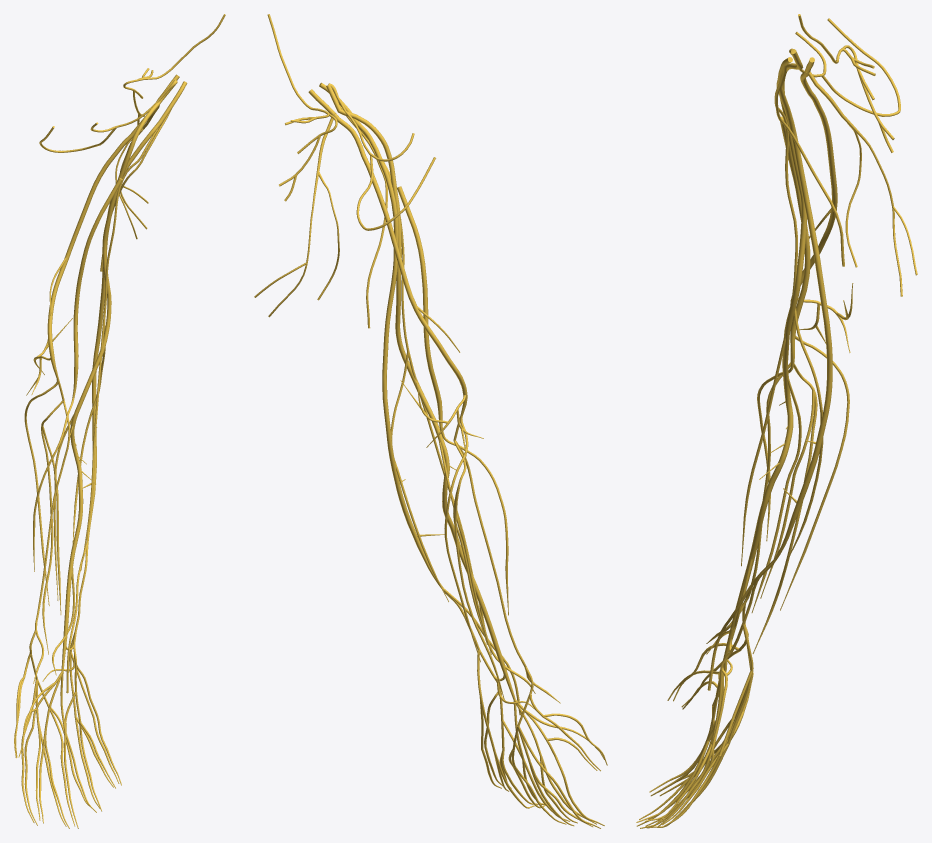
File: nervous_peripheral.upper_limb_right.glb
3 views of the same model, side by side, from view 1: azimuth 30°, elevation 25°; view 2: azimuth 150°, elevation 25°; view 3: azimuth 270°, elevation 25° (orthographic). The views are drawn at different scales.
Visible parts, largest first — view 1: right_median_nerve, right_dorsal_digital_branches_of_radial_nerve, right_proper_palmar_digital_branches_of_median_nerve, right_radial_nerve, right_ulnar_nerve, right_musculocutaneous_nerve, right_superficial_branch_of_radial_nerve, right_proper_palmar_digital_branches_of_ulnar_nerve, right_deep_branch_of_radial_nerve, right_anterior_branch_of_medial_antebrachial_cutaneous_nerve, right_posterior_antebrachial_cutaneous_nerve, right_dorsal_digital_branches_of_ulnar_nerve (+10 smaller); view 2: right_median_nerve, right_ulnar_nerve, right_dorsal_digital_branches_of_radial_nerve, right_radial_nerve, right_musculocutaneous_nerve, right_proper_palmar_digital_branches_of_median_nerve, right_thoracodorsal_nerve, right_superficial_branch_of_radial_nerve, right_suprascapular_nerve, right_deep_branch_of_radial_nerve, right_posterior_antebrachial_cutaneous_nerve, right_lateral_cord_of_brachial_plexus (+1 smaller); view 3: right_ulnar_nerve, right_median_nerve, right_thoracodorsal_nerve, right_proper_palmar_digital_branches_of_median_nerve, right_radial_nerve, right_musculocutaneous_nerve, right_dorsal_digital_branches_of_radial_nerve, right_proper_palmar_digital_branches_of_ulnar_nerve, right_suprascapular_nerve, right_posterior_antebrachial_cutaneous_nerve, right_deep_branch_of_radial_nerve, right_superficial_branch_of_radial_nerve (+9 smaller).
Part boxes in pixels (x1,y1,x2,y2): right_median_nerve: (61,174,122,671); right_dorsal_digital_branches_of_radial_nerve: (14,676,89,826); right_proper_palmar_digital_branches_of_median_nerve: (18,682,96,828); right_radial_nerve: (47,98,158,400); right_ulnar_nerve: (78,180,117,615); right_musculocutaneous_nerve: (72,178,122,397); right_superficial_branch_of_radial_nerve: (23,400,70,683); right_proper_palmar_digital_branches_of_ulnar_nerve: (77,665,121,811); right_deep_branch_of_radial_nerve: (41,400,62,654); right_anterior_branch_of_medial_antebrachial_cutaneous_nerve: (80,320,105,570); right_posterior_antebrachial_cutaneous_nerve: (24,379,58,605); right_dorsal_digital_branches_of_ulnar_nerve: (74,716,119,808); right_median_nerve: (392,185,515,700); right_ulnar_nerve: (382,184,479,649); right_dorsal_digital_branches_of_radial_nerve: (508,713,607,828); right_radial_nerve: (333,113,467,440); right_musculocutaneous_nerve: (397,186,444,437); right_proper_palmar_digital_branches_of_median_nerve: (522,710,604,825); right_thoracodorsal_nerve: (254,117,339,317); right_superficial_branch_of_radial_nerve: (456,441,560,726); right_suprascapular_nerve: (267,14,337,201); right_deep_branch_of_radial_nerve: (453,440,504,699); right_posterior_antebrachial_cutaneous_nerve: (444,415,480,662); right_lateral_cord_of_brachial_plexus: (326,85,397,190); right_ulnar_nerve: (742,118,832,624); right_median_nerve: (723,119,807,667); right_thoracodorsal_nerve: (807,71,917,296); right_proper_palmar_digital_branches_of_median_nerve: (636,670,718,826); right_radial_nerve: (790,71,837,361); right_musculocutaneous_nerve: (780,116,810,368); right_dorsal_digital_branches_of_radial_nerve: (645,643,753,826); right_proper_palmar_digital_branches_of_ulnar_nerve: (640,667,727,828); right_suprascapular_nerve: (798,14,894,152); right_posterior_antebrachial_cutaneous_nerve: (780,336,849,610); right_deep_branch_of_radial_nerve: (752,363,817,653); right_superficial_branch_of_radial_nerve: (706,362,790,673).
Bounding box in the file's own units: 0.2709 × 0.7242 × 0.1953.
